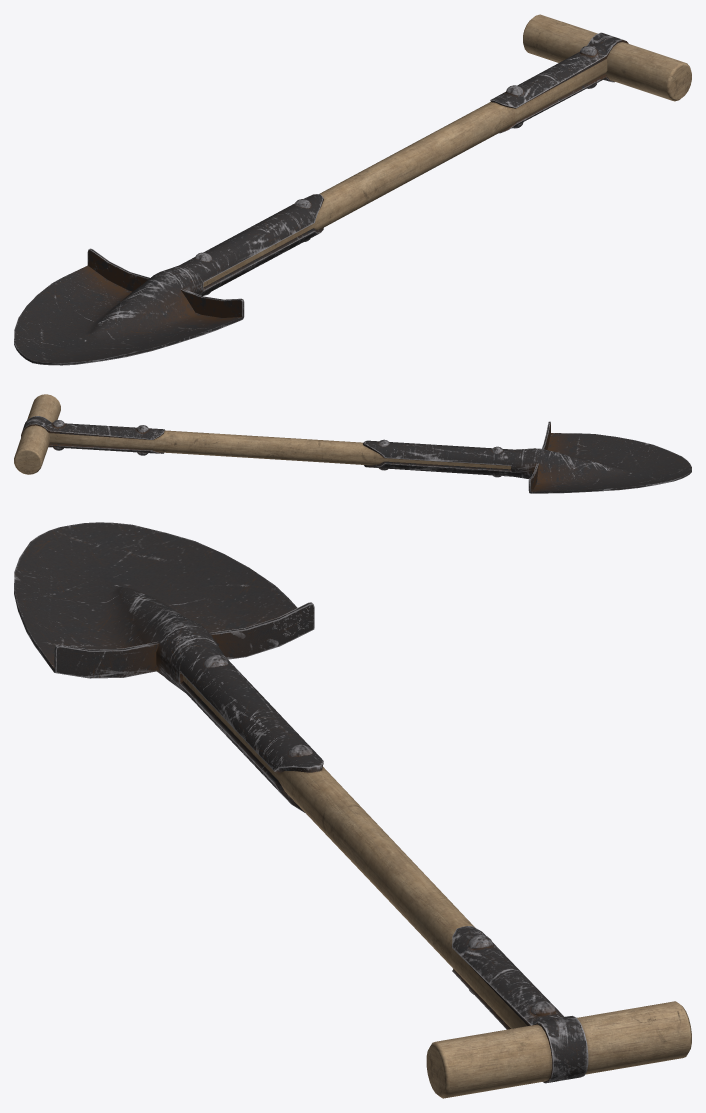
Rendered from shovel_low-poly.glb.
The picture shows the model from 3 angles, top to bottom: view 1: azimuth 30°, elevation 25°; view 2: azimuth 150°, elevation 25°; view 3: azimuth 270°, elevation 25°; orthographic projection. The views are drawn at different scales.
Parts seen in each view (by area): view 1: Shovel_Shovel_0; view 2: Shovel_Shovel_0; view 3: Shovel_Shovel_0.
Boxes of the visible parts, left/top/right/bottom form: Shovel_Shovel_0: left=14, top=14, right=691, bottom=365; Shovel_Shovel_0: left=14, top=394, right=691, bottom=493; Shovel_Shovel_0: left=14, top=522, right=691, bottom=1098.
Bounding box in the file's own units: 0.8813 × 0.0439 × 0.4598.
1 material, 1 textured.
